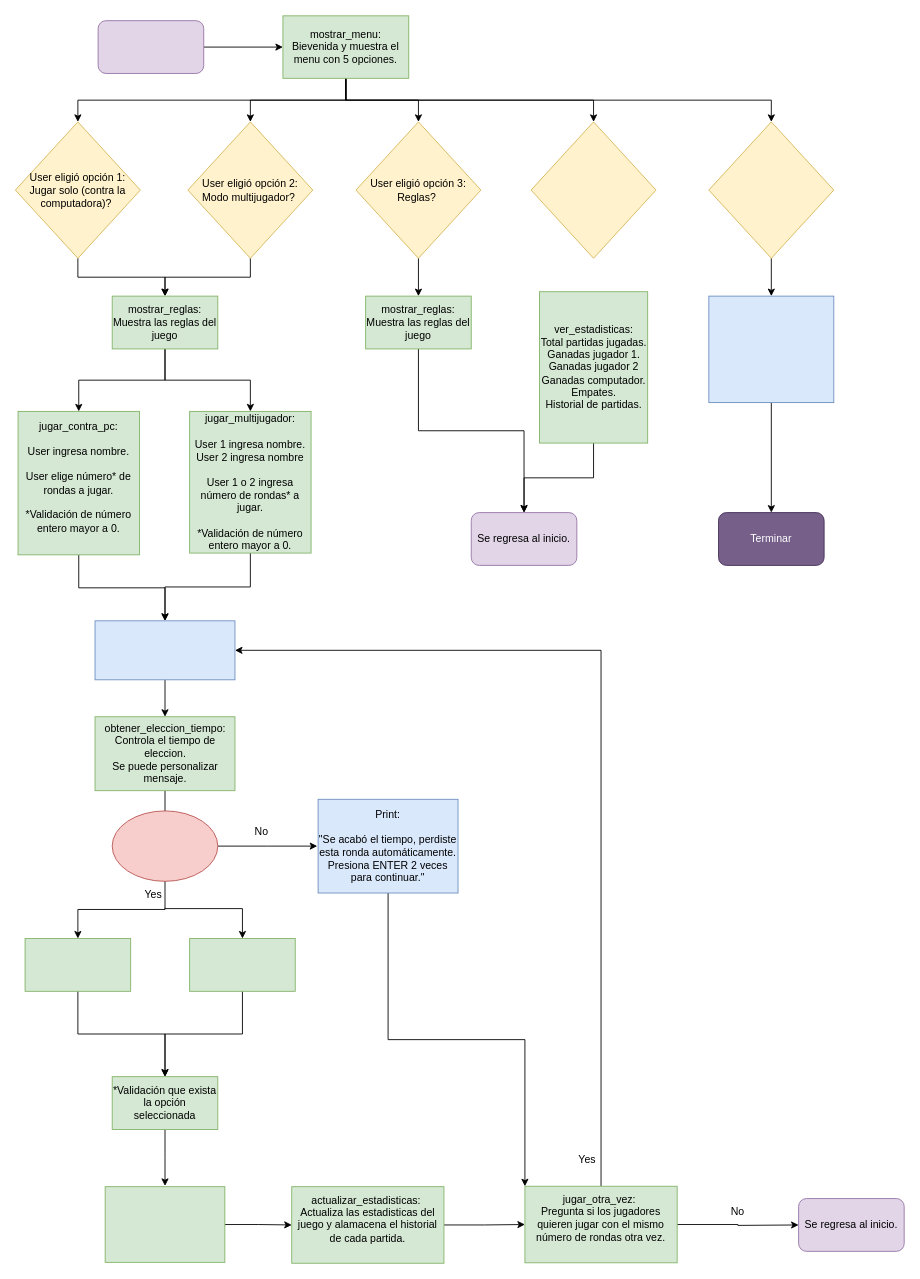
The diagram is 920 pixels wide and 1279 high, and some of its shapes have lost their labels. The shapes that lost their labels are listed below. From the top down, each one's box as (x1, y1, x2, y2) in pixels, then its label:
(97, 20, 204, 73): Inicio
(530, 121, 656, 258): User eligió opción 4: Ver estadísticas?
(708, 121, 834, 258): User eligió opción 5: Salir?
(708, 295, 834, 403): Print: "Gracias por jugar Piedra, Papel y Tijera. Hasta la próxima!"
(94, 620, 235, 680): Print: "Opciones: 1) Piedra 2) Papel 3) Tijeras"
(111, 810, 218, 881): Tiene tiempo disponible?
(24, 938, 131, 991): User 1 elige opción. PC se selecciona random.
(189, 938, 295, 991): User 1 elige opción. User 2 elige opción.
(104, 1186, 225, 1262): determinar_ganador: Lógica del juego para determinar ganador, empate y perdedor.
